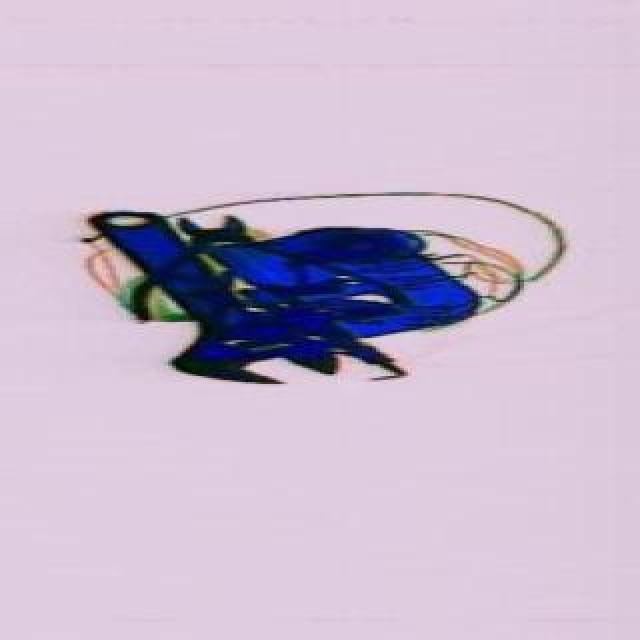scissors: (80, 156, 358, 440)
wrench: (130, 190, 422, 340)
